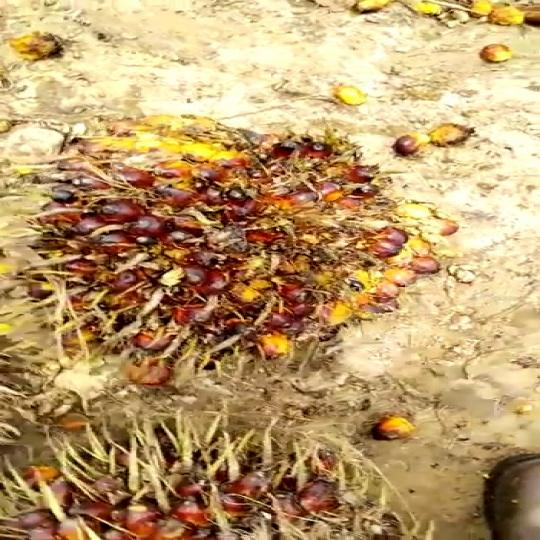masak: (16, 112, 467, 378)
